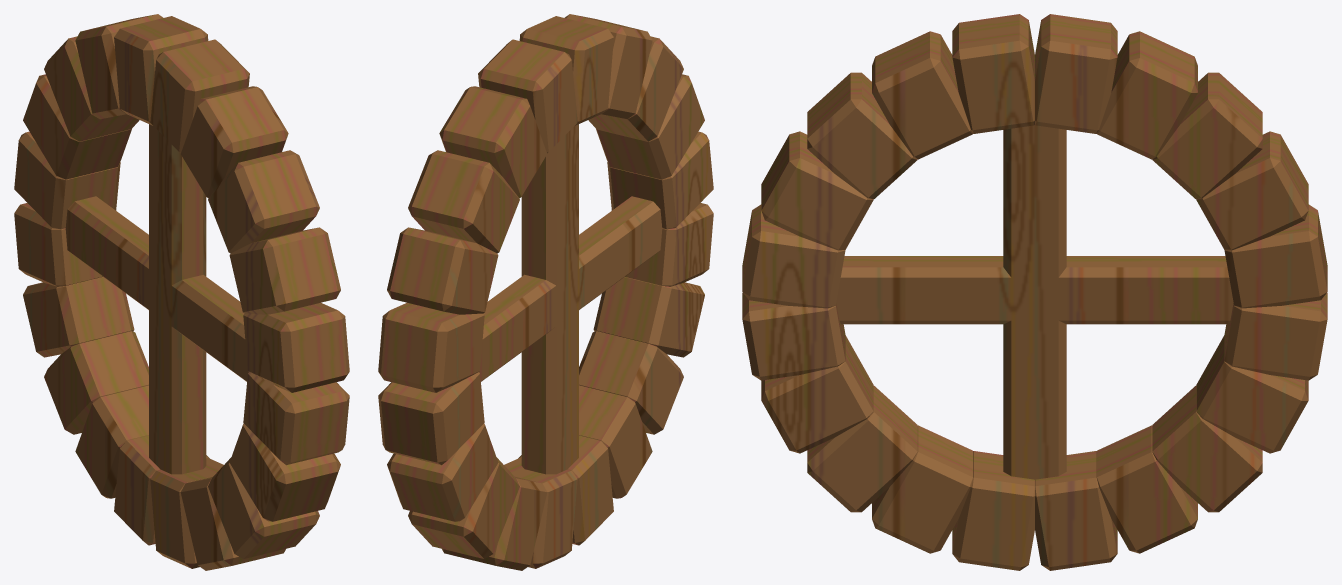
Rendered from SM_HH_V2_Windows_Loft.fbx.
3 views of the same model, side by side, from view 1: azimuth 30°, elevation 25°; view 2: azimuth 150°, elevation 25°; view 3: azimuth 270°, elevation 25° (orthographic). The views are drawn at different scales.
Parts seen in each view (by area): view 1: HH_V2_Windows_Loft; view 2: HH_V2_Windows_Loft; view 3: HH_V2_Windows_Loft.
Part boxes in pixels (x1,y1,x2,y2): HH_V2_Windows_Loft: (14, 14, 349, 570); HH_V2_Windows_Loft: (378, 14, 713, 570); HH_V2_Windows_Loft: (742, 14, 1327, 570).
Bounding box in the file's own units: 1.11 × 0.15 × 1.11.
